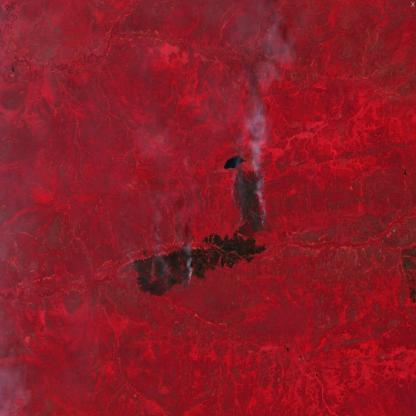fire: (128, 244, 194, 296), (231, 164, 269, 233)
